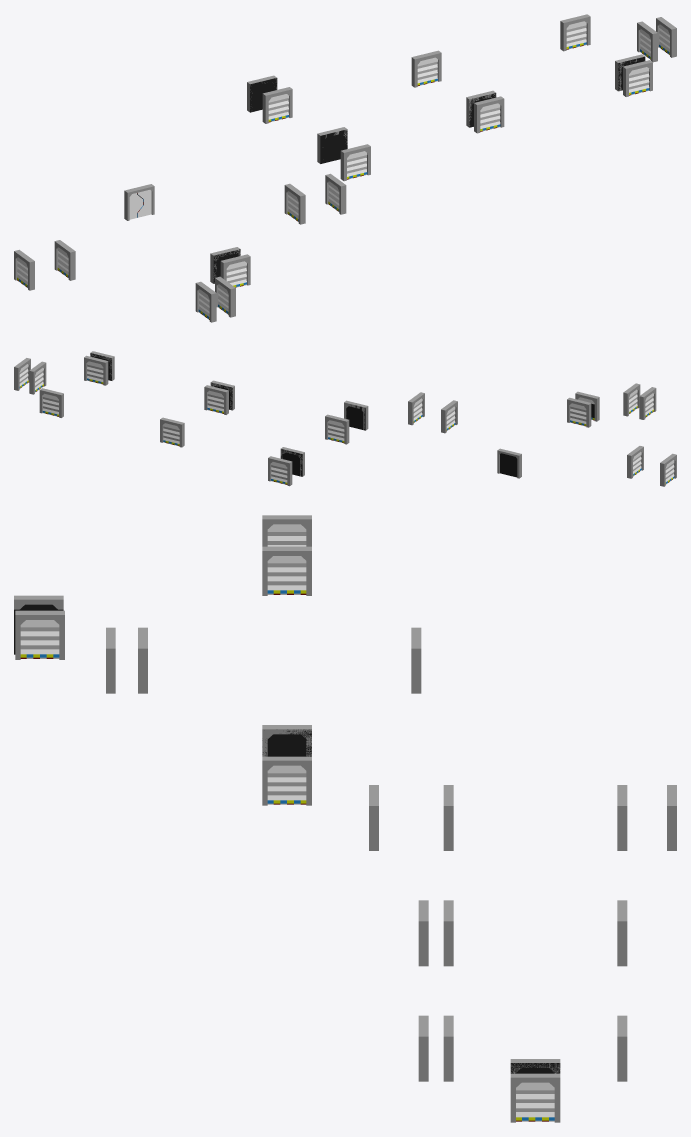
The model's file is doorsRand.fbx.
3 renders of one model, top to bottom at view 1: azimuth 30°, elevation 25°; view 2: azimuth 150°, elevation 25°; view 3: azimuth 270°, elevation 25°, orthographic. The views are drawn at different scales.
Parts seen in each view (by area): view 1: Plane.023, Plane.024, DoorOff.002, DoorOff, DoorOff.001, DoorOff.007, DoorOff.009, DoorwayOff.001, DoorwayOff.007, DoorOff.010, DoorwayOff, DoorwayOff.002 (+6 smaller); view 2: Plane.023, Plane.017, Plane.024, DoorOff, DoorOff.004, DoorOff.003, DoorOff.005, DoorwayOff, DoorOff.011, DoorOff.016, DoorOff.001, DoorwayOff.016 (+19 smaller); view 3: DoorOff.012, DoorOff.014, DoorOff.019, DoorOff.008, Plane.022, DoorwayOff.008, DoorwayOff.019, DoorwayOff.014, DoorwayOff.012, DoorOff.015.
Part boxes in pixels (box(x1,y1,x2,y2)): Plane.023: box(320, 130, 347, 163); Plane.024: box(250, 78, 277, 112); DoorOff.002: box(268, 94, 288, 122); DoorOff: box(417, 57, 437, 85); DoorOff.001: box(566, 21, 586, 49); DoorOff.007: box(480, 103, 500, 131); DoorOff.009: box(629, 67, 649, 95); DoorwayOff.001: box(560, 14, 590, 51); DoorwayOff.007: box(474, 96, 504, 133); DoorOff.010: box(347, 151, 367, 179); DoorwayOff: box(411, 50, 441, 87); DoorwayOff.002: box(262, 87, 292, 123); Plane.023: box(346, 405, 365, 430); Plane.017: box(500, 453, 517, 477); Plane.024: box(280, 449, 302, 476); DoorOff: box(163, 423, 179, 446); DoorOff.004: box(207, 390, 223, 413); DoorOff.003: box(328, 420, 344, 443); DoorOff.005: box(87, 361, 103, 384); DoorwayOff: box(160, 417, 184, 447); DoorOff.011: box(271, 462, 287, 484); DoorOff.016: box(570, 403, 586, 426); DoorOff.001: box(42, 393, 58, 416); DoorwayOff.016: box(567, 397, 591, 427); DoorOff.012: box(267, 765, 306, 804); DoorOff.014: box(267, 556, 306, 594); DoorOff.019: box(20, 620, 59, 658); DoorOff.008: box(516, 1082, 554, 1121); Plane.022: box(262, 729, 311, 756); DoorwayOff.008: box(510, 1073, 560, 1122); DoorwayOff.019: box(15, 610, 64, 659); DoorwayOff.014: box(262, 546, 311, 595); DoorwayOff.012: box(262, 756, 311, 805); DoorOff.015: box(267, 524, 306, 546).
Bounding box in the file's own units: 8040 × 300 × 4005.
